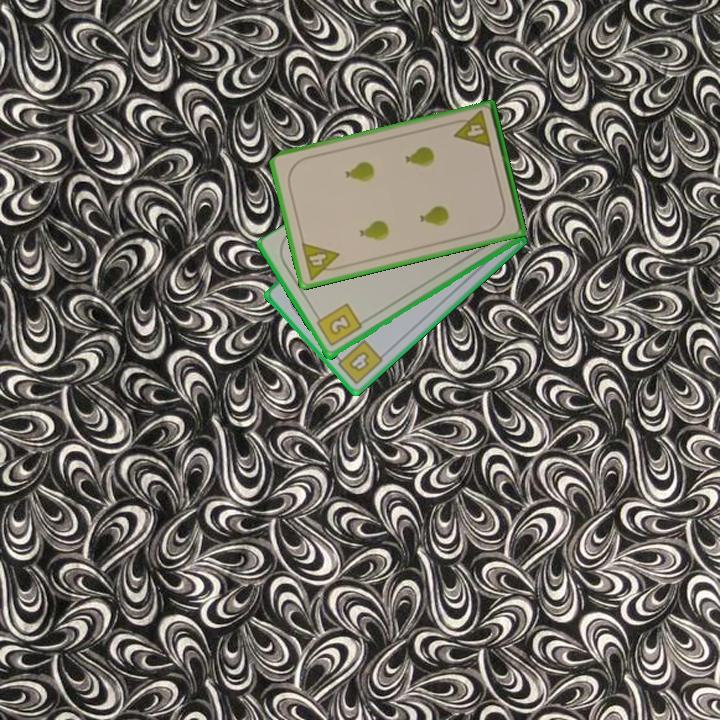2b: (312, 300, 365, 349)
4b: (330, 336, 386, 388)
4p: (298, 239, 345, 283), (448, 107, 494, 151)
